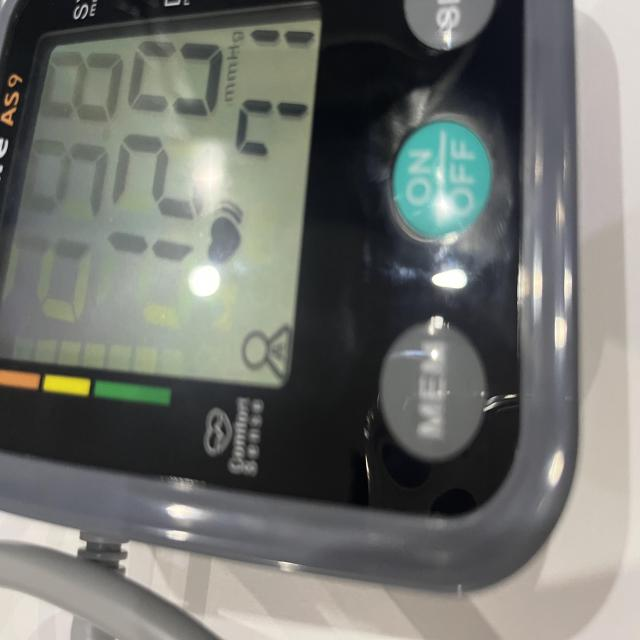bp: (0, 0, 624, 601)
